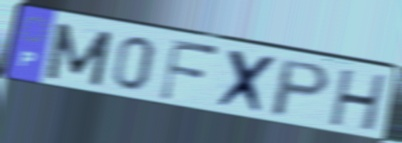0: (111, 34, 158, 95)
F: (157, 36, 222, 104)
H: (326, 67, 391, 135)
M: (42, 20, 116, 90)
P: (267, 57, 334, 120)
X: (212, 46, 281, 119)
